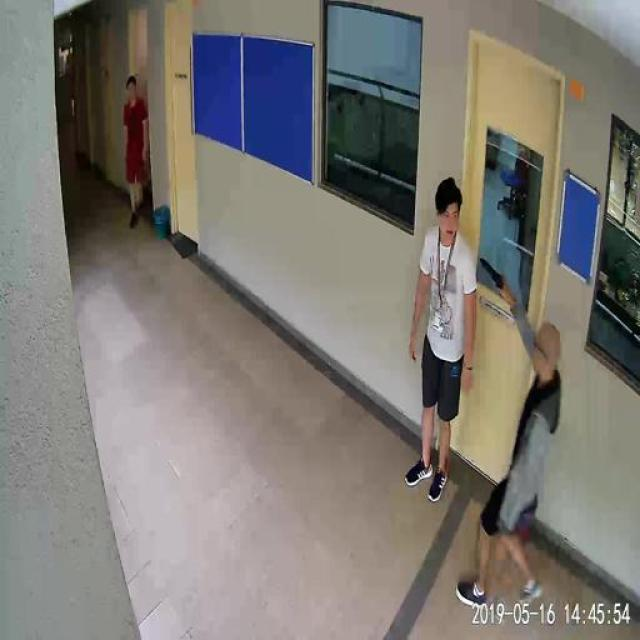Gun: (476, 252, 517, 299)
